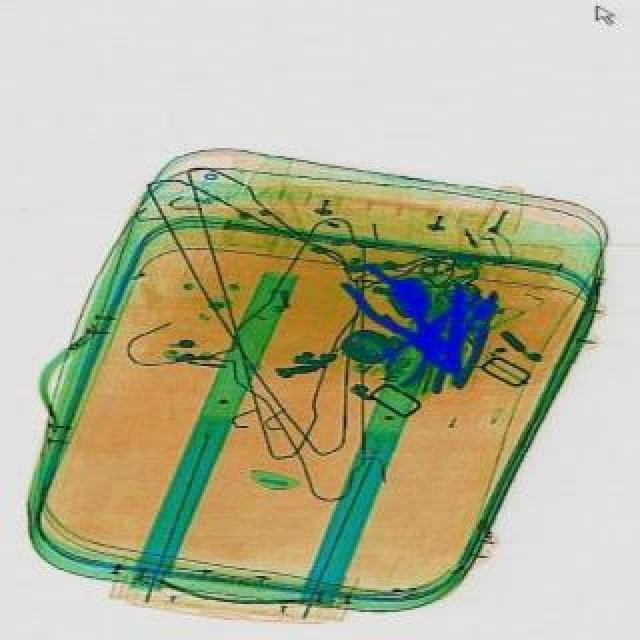wrench: (334, 254, 474, 390), (374, 298, 464, 390), (432, 284, 504, 392)
